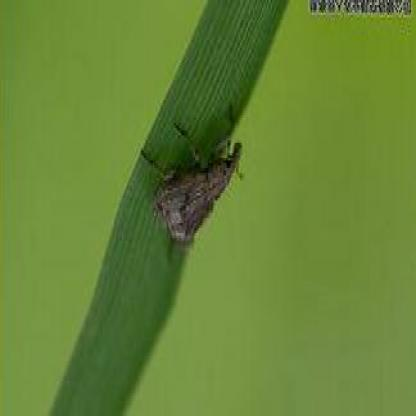rice-bug: (151, 112, 245, 250)
